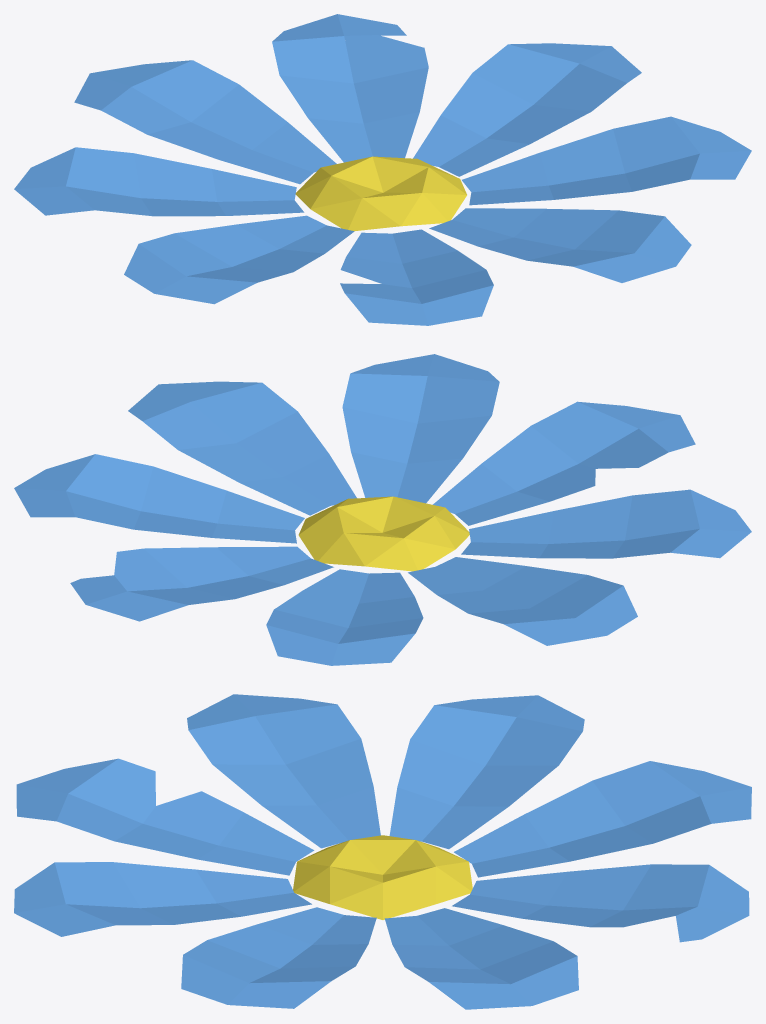
Rendered from daisy.fbx.
The picture shows the model from 3 angles, top to bottom: view 1: azimuth 30°, elevation 25°; view 2: azimuth 150°, elevation 25°; view 3: azimuth 270°, elevation 25°; orthographic projection. The views are drawn at different scales.
Visible parts, largest first — view 1: Plane.002, Icosphere.004; view 2: Plane.002, Icosphere.004; view 3: Plane.002, Icosphere.004.
Boxes of the visible parts, x1,y1,x2,y2 form: Plane.002: (14, 14, 751, 325); Icosphere.004: (295, 156, 466, 231); Plane.002: (14, 354, 751, 665); Icosphere.004: (298, 496, 469, 571); Plane.002: (14, 694, 751, 1009); Icosphere.004: (293, 835, 472, 919).
Bounding box in the file's own units: 11.54 × 0.635 × 11.54.
